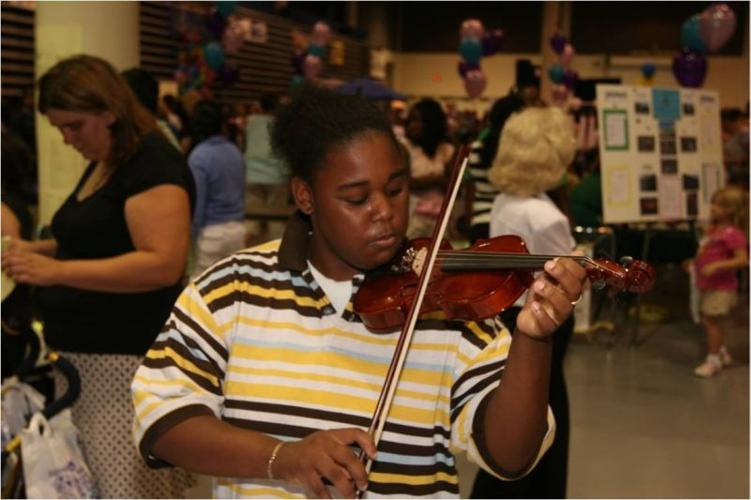person: (129, 90, 595, 500)
